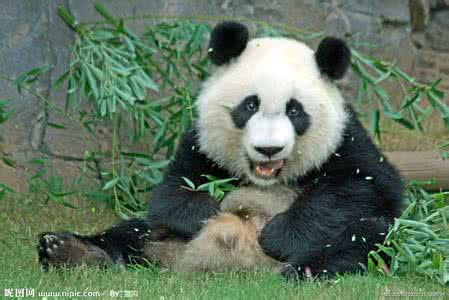panda: (33, 20, 415, 287)
